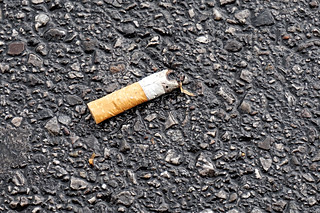cigarette: (84, 68, 190, 125)
